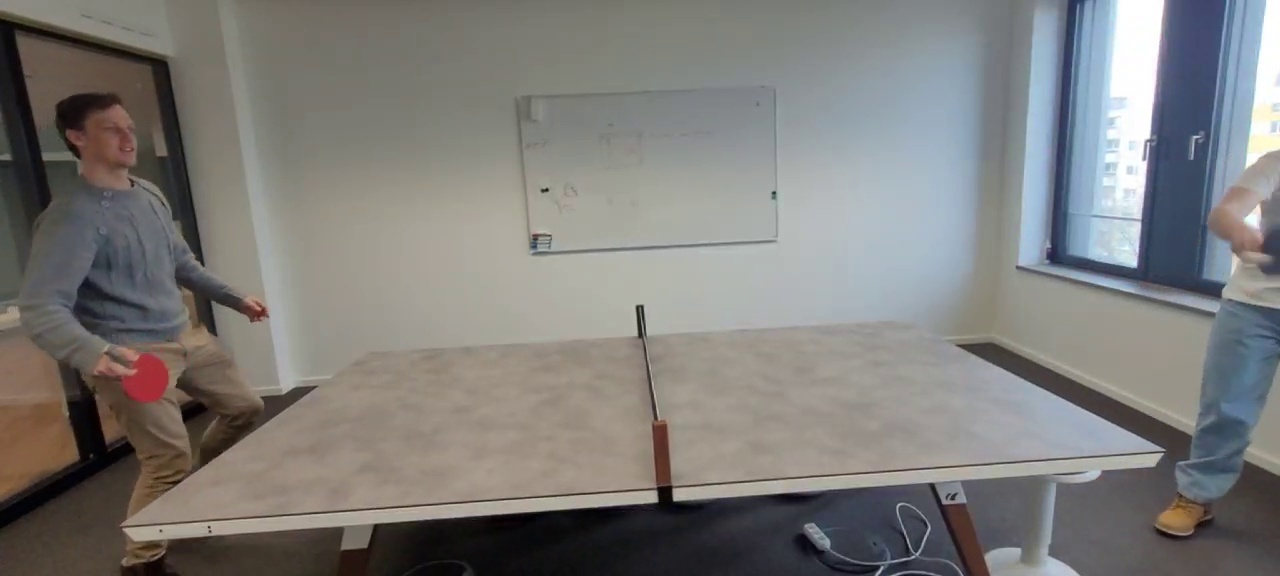1: (103, 343, 169, 403), (1258, 227, 1278, 274)
2: (1243, 250, 1272, 263)
ttplatte: (121, 319, 1166, 528)
